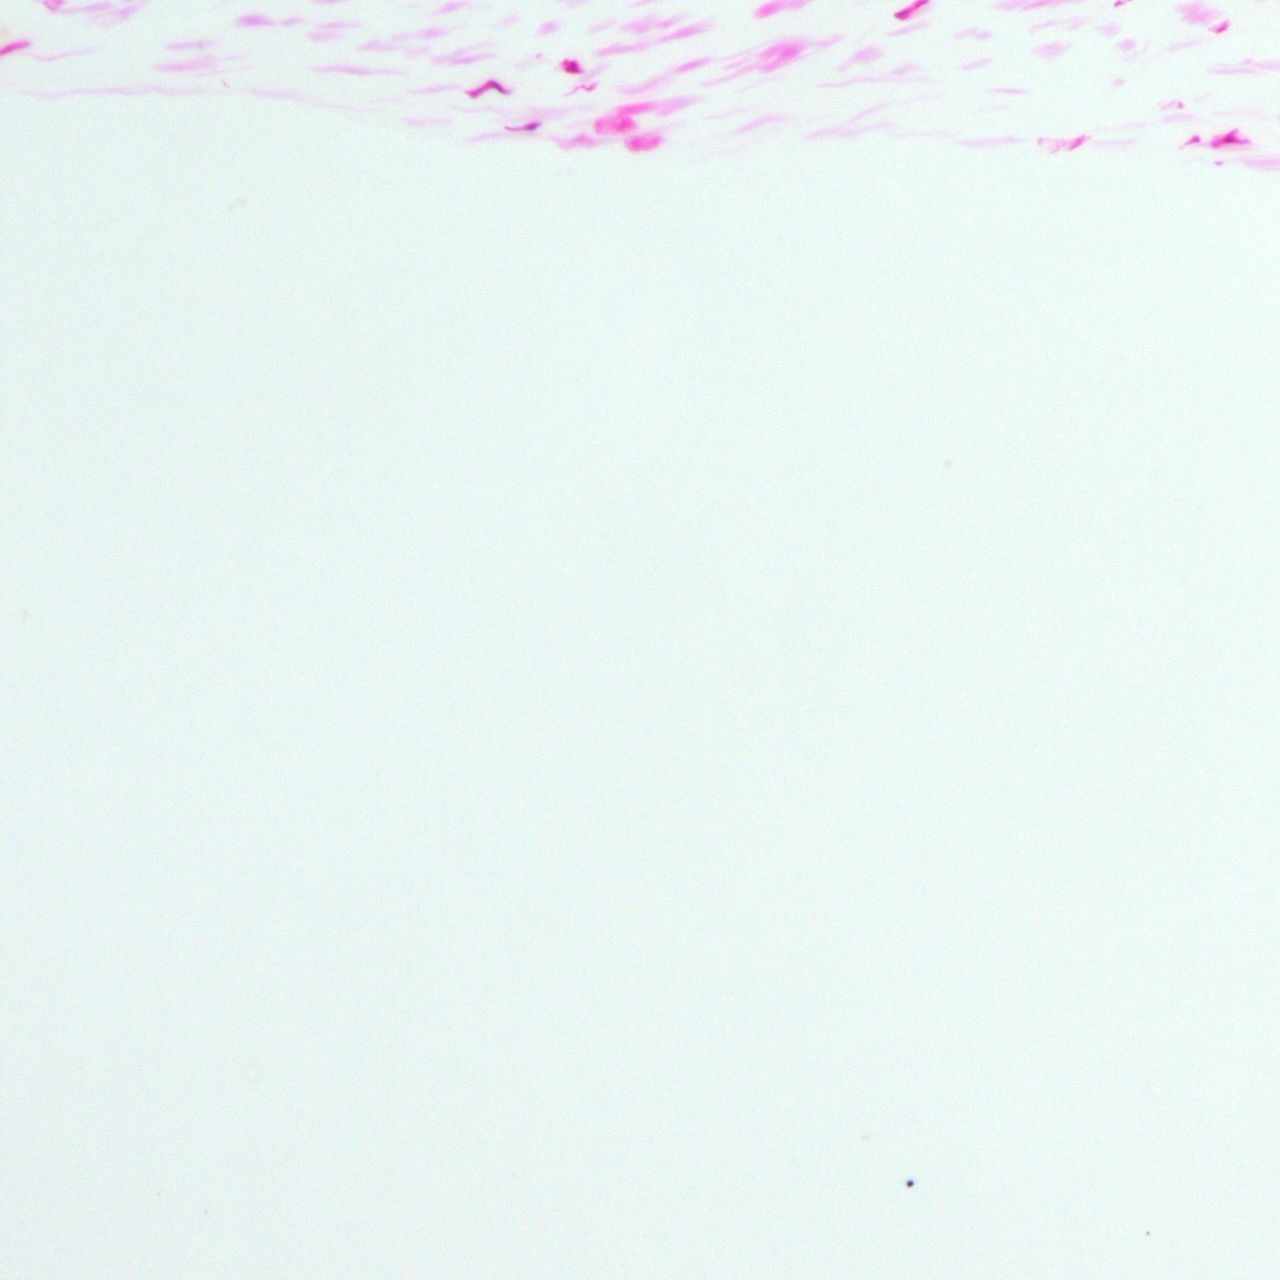dust: (906, 1179, 914, 1187)
nucleus-FG: (1207, 125, 1250, 151), (591, 114, 636, 136), (467, 79, 512, 98), (626, 132, 662, 154), (614, 100, 658, 116), (501, 120, 539, 134), (561, 56, 584, 74), (1212, 19, 1230, 35), (1189, 134, 1200, 144)
